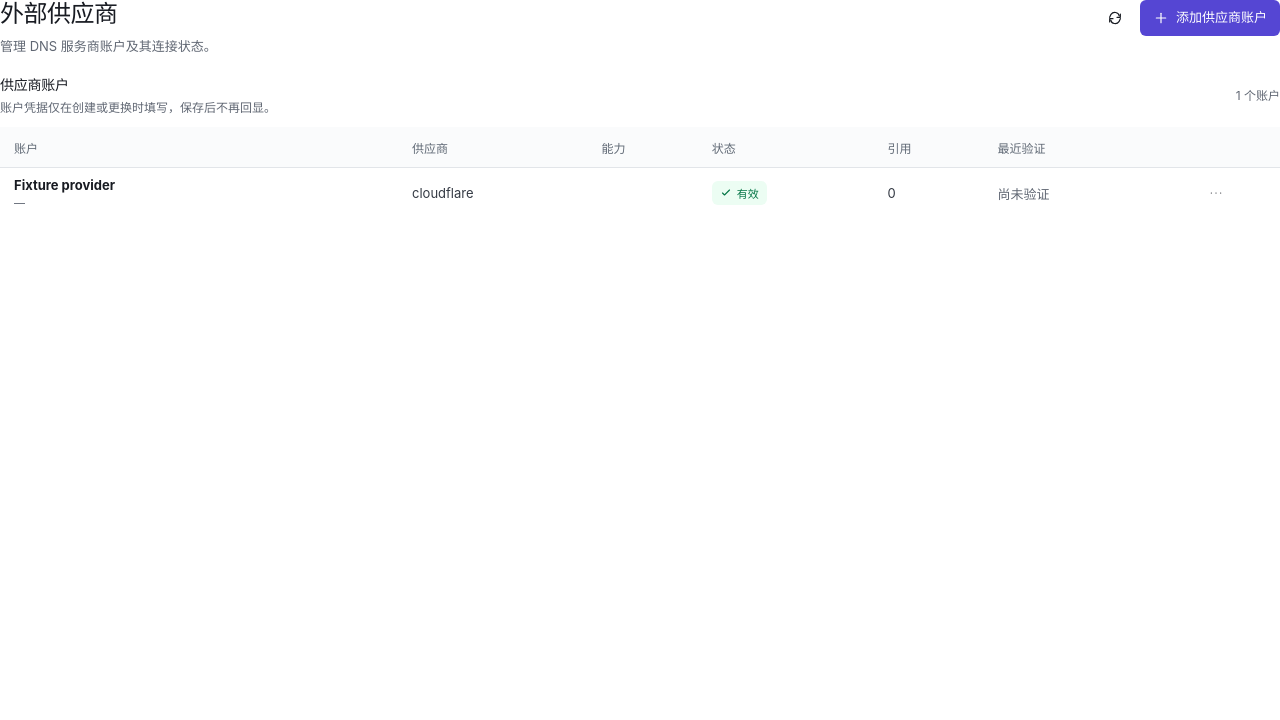
Test: Provider account editing › keeps token validation errors inside the editor so they can be corrected
The image size is (1280, 720).
Press ArrowDown in the button named "Fixture provider 的操作", box left=1200, top=177, right=1232, bottom=209
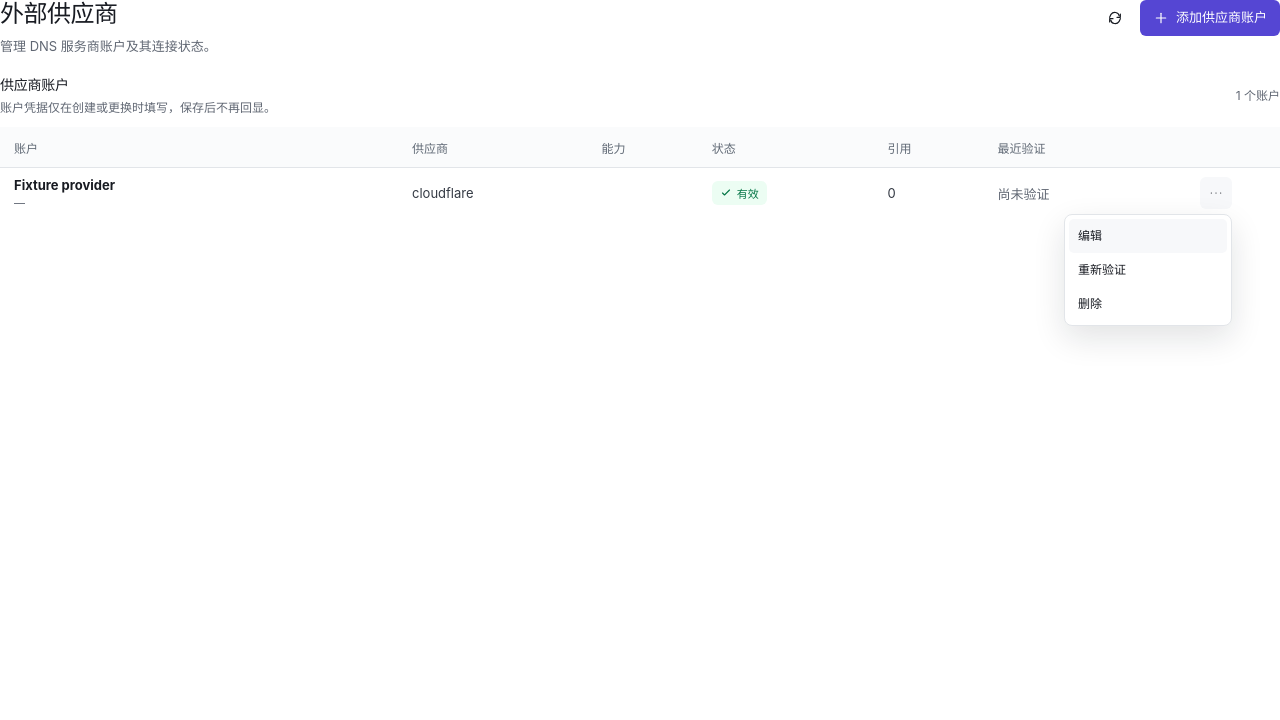
Now the menu item "编辑" is shown
Click the menu item "编辑".
click(1148, 236)  # box left=1069, top=219, right=1227, bottom=253
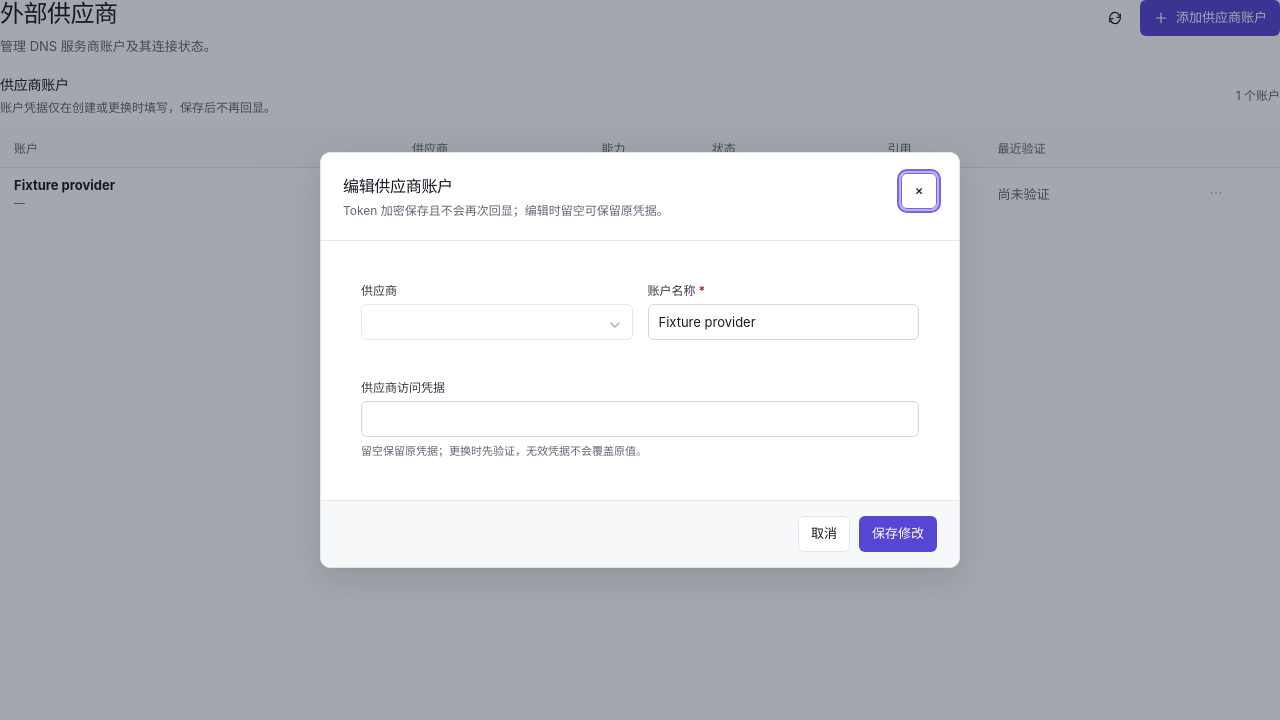
Now the password field labelled "供应商访问凭据" is shown
Type "replacement-cloudflare-token" into the password field labelled "供应商访问凭据".
click(640, 419); type("replacement-cloudflare-token")  # box left=361, top=401, right=919, bottom=437
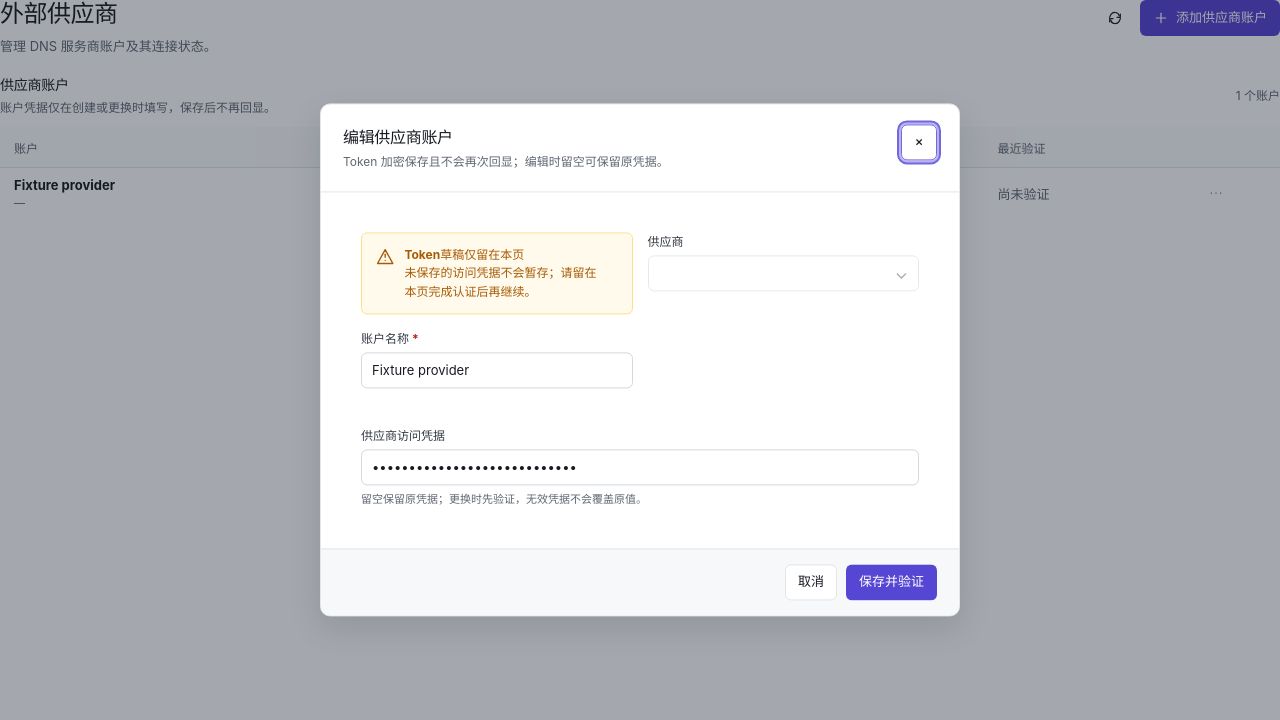
Now the button "保存并验证" is shown
Click the button "保存并验证".
click(892, 583)  # box left=846, top=565, right=937, bottom=601
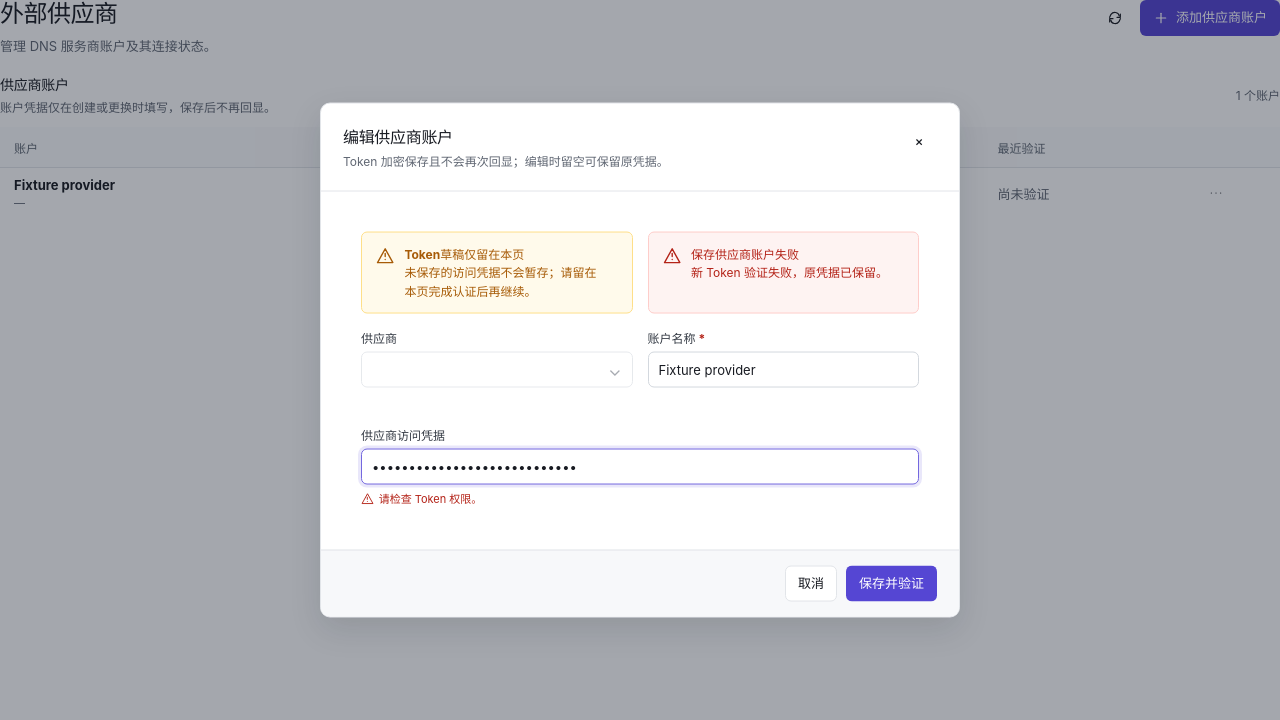
Now the text "原凭据已保留" is shown, box left=691, top=264, right=888, bottom=280
Now the text "请检查 Token 权限。" is shown, box left=361, top=491, right=482, bottom=507
